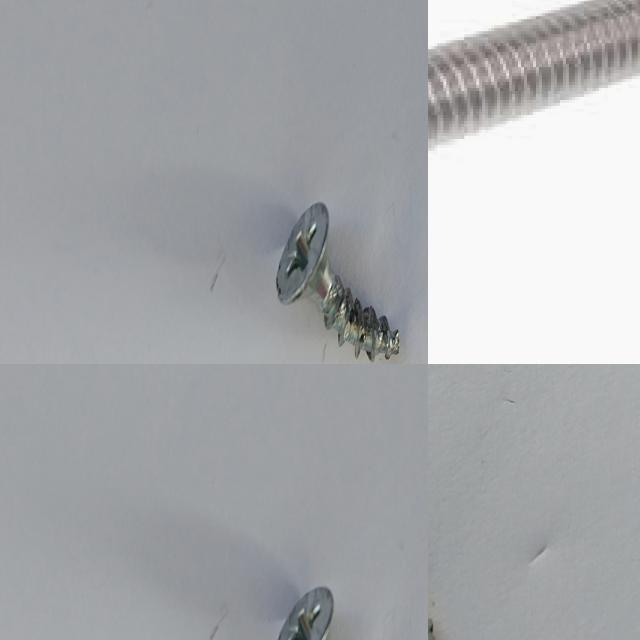Screw: (428, 0, 640, 155), (277, 202, 400, 361), (278, 586, 334, 640)
